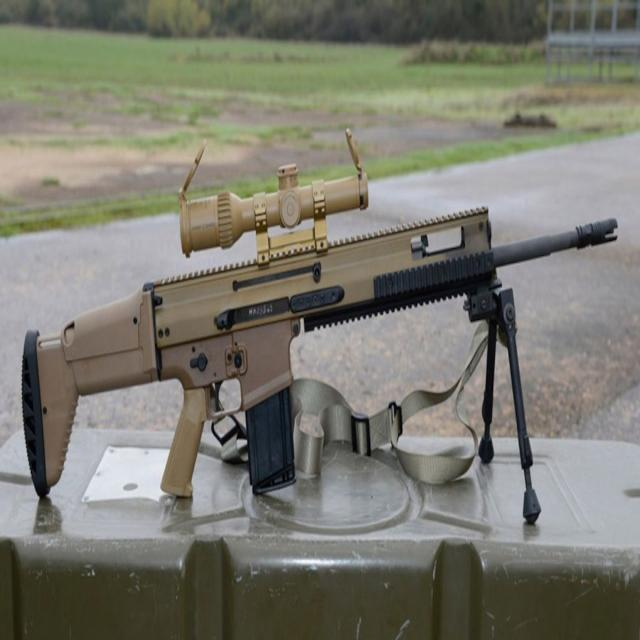Gun: (14, 137, 611, 558)
